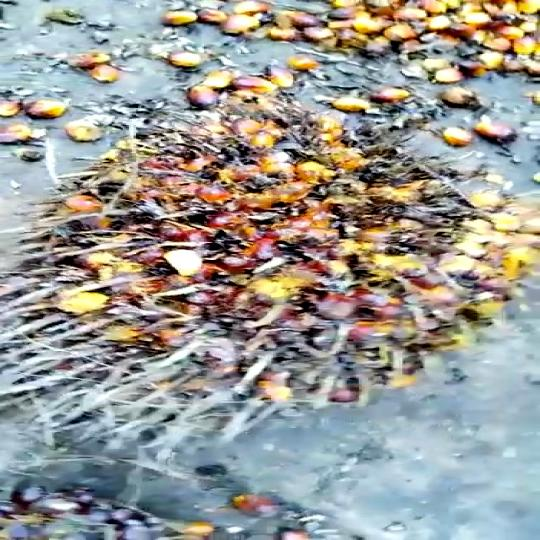terlalu masak: (0, 104, 540, 474)
